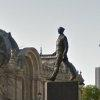Statue: (45, 21, 86, 97)
